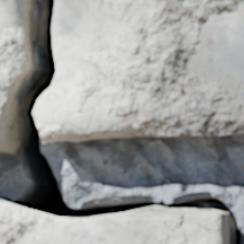brick: (0, 200, 228, 243)
broken_brick: (35, 0, 243, 144), (0, 0, 23, 131), (0, 139, 17, 155)
crack: (0, 0, 242, 243)
